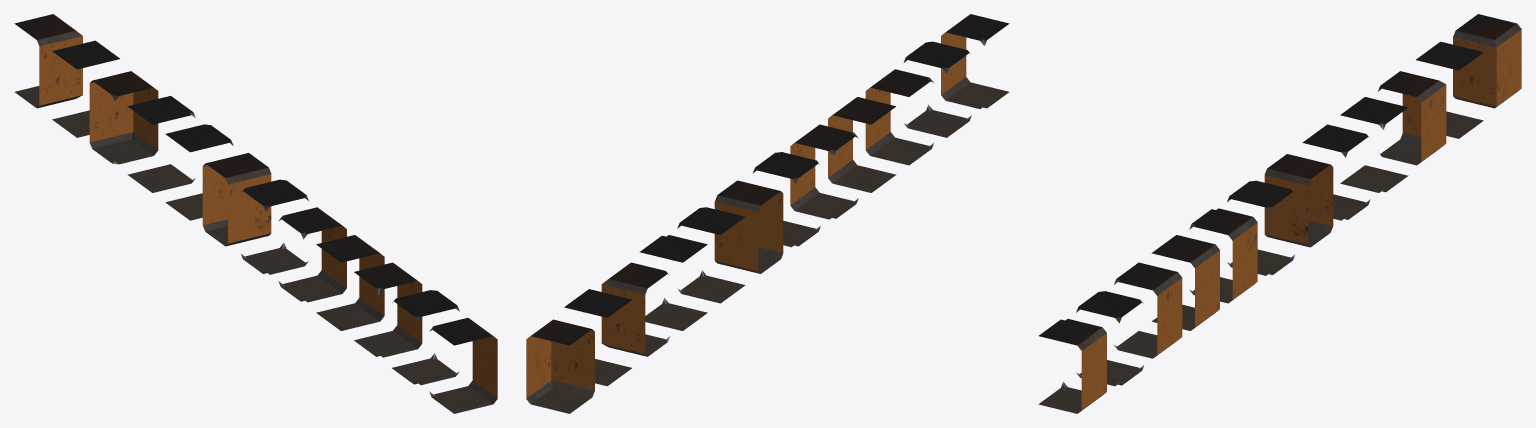
Rendered from Crawler_Tiles_Text.fbx.
3 views of the same model, side by side, from view 1: azimuth 30°, elevation 25°; view 2: azimuth 150°, elevation 25°; view 3: azimuth 330°, elevation 25° (orthographic).
Visible parts, largest first — view 1: FloorCorner, FloorStraight, RoomCorner, FloorSide2CornerRight, FloorTCrossing, FloorSide2CornerLeft, RoomSide, FloorCrossing, FloorCrossing3CornerBottom, RoomInnerCorner, RoomCenter, RoomEntrance; view 2: RoomCorner, FloorStraight, FloorCorner, FloorSide2CornerLeft, FloorTCrossing, FloorSide2CornerRight, RoomSide, FloorCrossing3CornerBottom, RoomEntrance, RoomInnerCorner, FloorCrossing, RoomCenter; view 3: FloorStraight, RoomCorner, FloorCorner, FloorSide2CornerLeft, FloorSide2CornerRight, FloorTCrossing, RoomSide, RoomInnerCorner, FloorCrossing, FloorCrossing3CornerBottom, RoomEntrance, RoomCenter.
Boxes of the visible parts, x1,y1,x2,y2 form: FloorCorner: (89, 71, 158, 164); FloorStraight: (202, 153, 271, 246); RoomCorner: (14, 14, 82, 108); FloorSide2CornerRight: (429, 318, 497, 413); FloorTCrossing: (278, 207, 346, 302); FloorSide2CornerLeft: (354, 262, 422, 357); RoomSide: (316, 235, 384, 330); FloorCrossing: (241, 179, 308, 274); FloorCrossing3CornerBottom: (392, 290, 459, 385); RoomInnerCorner: (127, 96, 195, 192); RoomCenter: (52, 40, 119, 137); RoomEntrance: (165, 124, 233, 220); RoomCorner: (526, 319, 594, 413); FloorStraight: (714, 180, 783, 273); FloorCorner: (601, 262, 669, 356); FloorSide2CornerLeft: (865, 69, 933, 165); FloorTCrossing: (790, 124, 858, 219); FloorSide2CornerRight: (941, 14, 1009, 108); RoomSide: (828, 97, 896, 192); FloorCrossing3CornerBottom: (903, 41, 971, 137); RoomEntrance: (677, 207, 745, 303); RoomInnerCorner: (639, 235, 707, 330); FloorCrossing: (752, 152, 820, 247); RoomCenter: (564, 289, 631, 386); FloorStraight: (1264, 154, 1333, 247); RoomCorner: (1453, 14, 1521, 108); FloorCorner: (1378, 71, 1446, 165); FloorSide2CornerLeft: (1114, 262, 1182, 358); FloorSide2CornerRight: (1038, 319, 1106, 413); FloorTCrossing: (1189, 208, 1257, 303); RoomSide: (1151, 235, 1219, 330); RoomInnerCorner: (1340, 97, 1408, 192); FloorCrossing: (1227, 180, 1295, 275); FloorCrossing3CornerBottom: (1076, 291, 1144, 386); RoomEntrance: (1302, 124, 1370, 220); RoomCenter: (1416, 41, 1483, 138).
Size of the model in its own units: 200 by 300 by 3500.
Materials: 1 (1 with a texture image).
